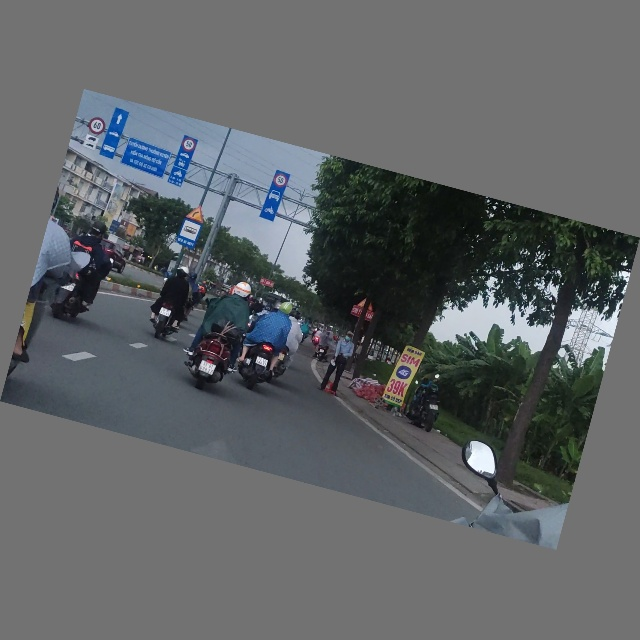I.434a: (176, 219, 202, 249)
P.127*50: (272, 172, 289, 189), (181, 137, 197, 154)
P.127*60: (87, 116, 107, 137)
S.505a*Xe tai va cong: (82, 134, 99, 151)
W.201b: (185, 203, 207, 224)
